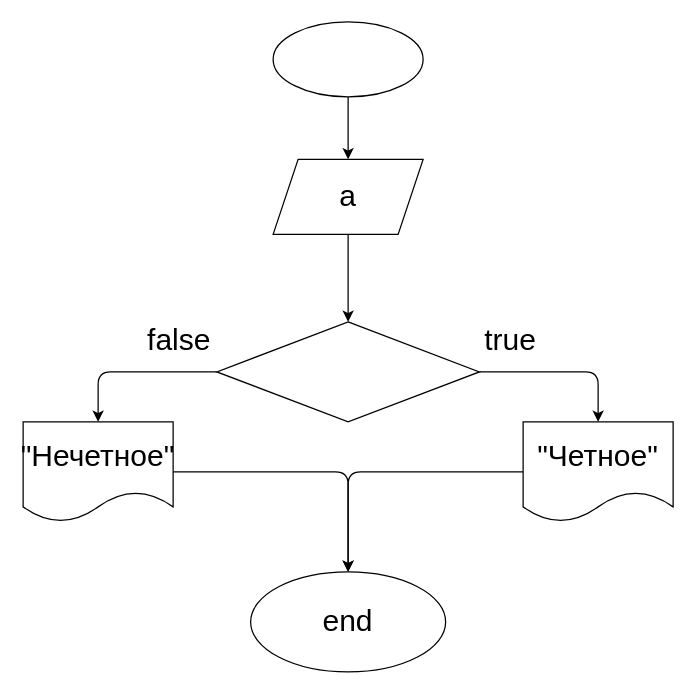
This 695x694 diagram has some shape labels left out. Each missing label, with the centre of its shape:
a % 2 == 0: point (347, 371)
start: point (347, 59)
